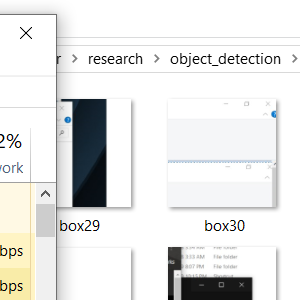close: (12, 21, 41, 44)
